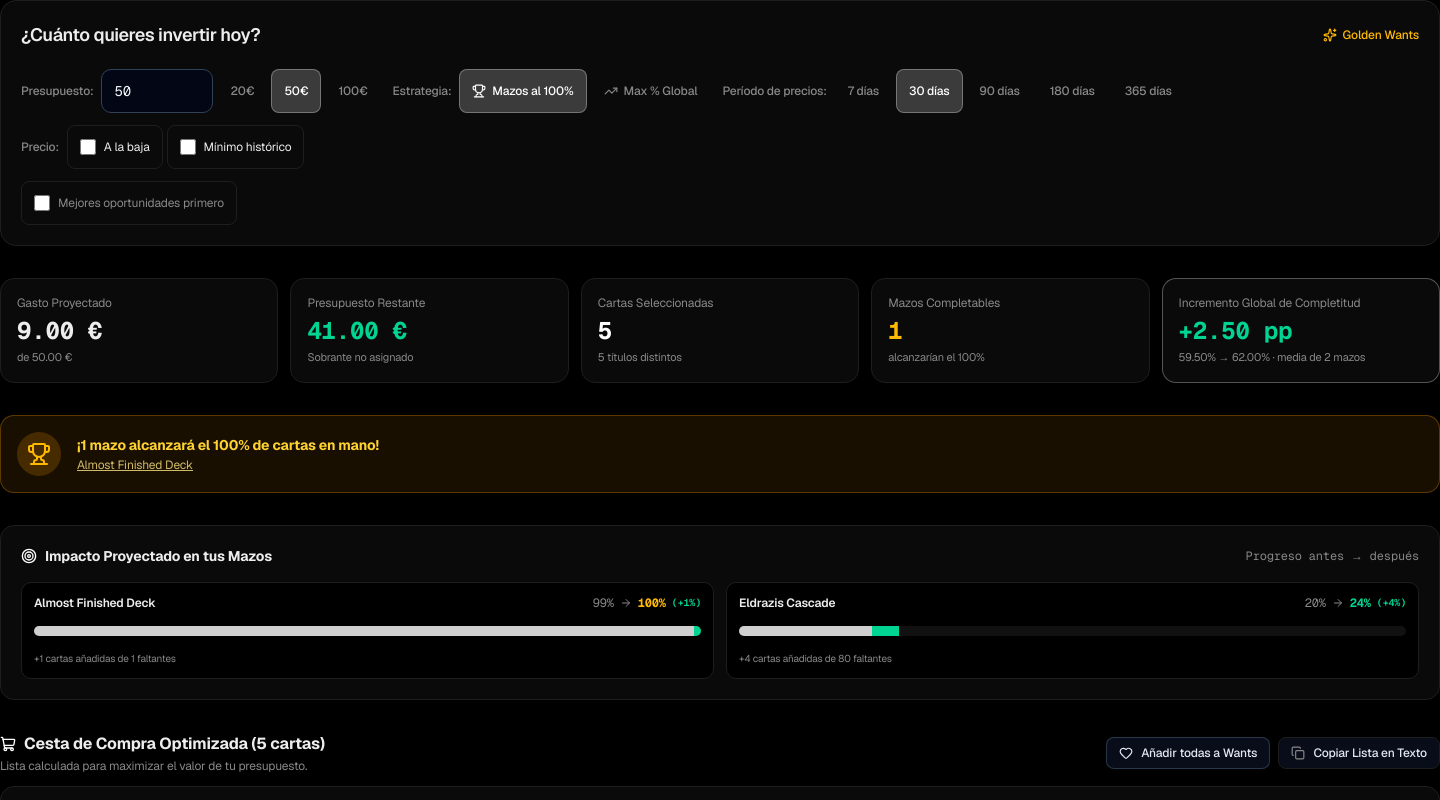
GoldenWantsTab Component › only shows improved decks with Max % Global
Click the button "Max % Global": {"x": 650, "y": 91} [590,69,710,113]
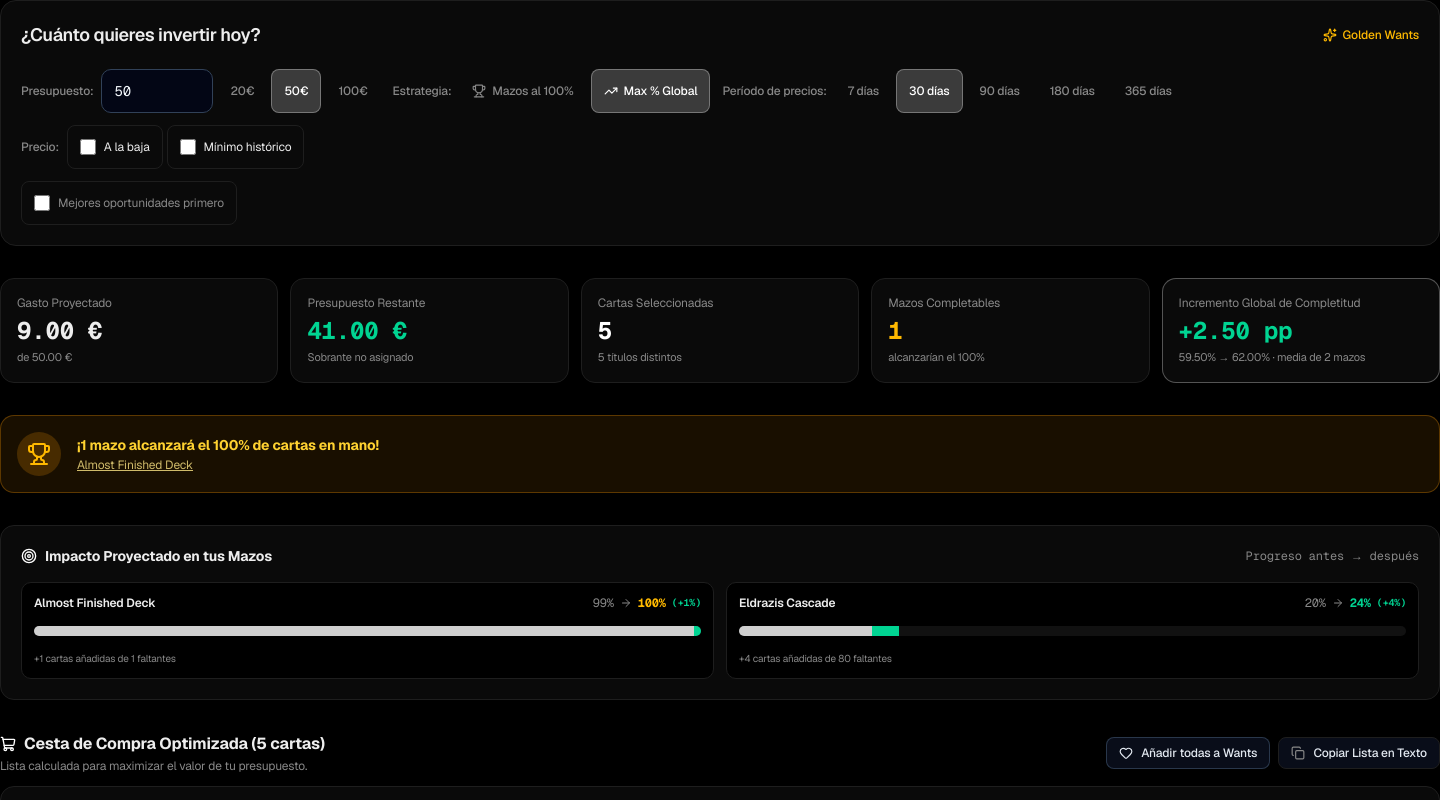
Replace the text in the number field with "1": {"x": 158, "y": 91} [102,69,214,113]
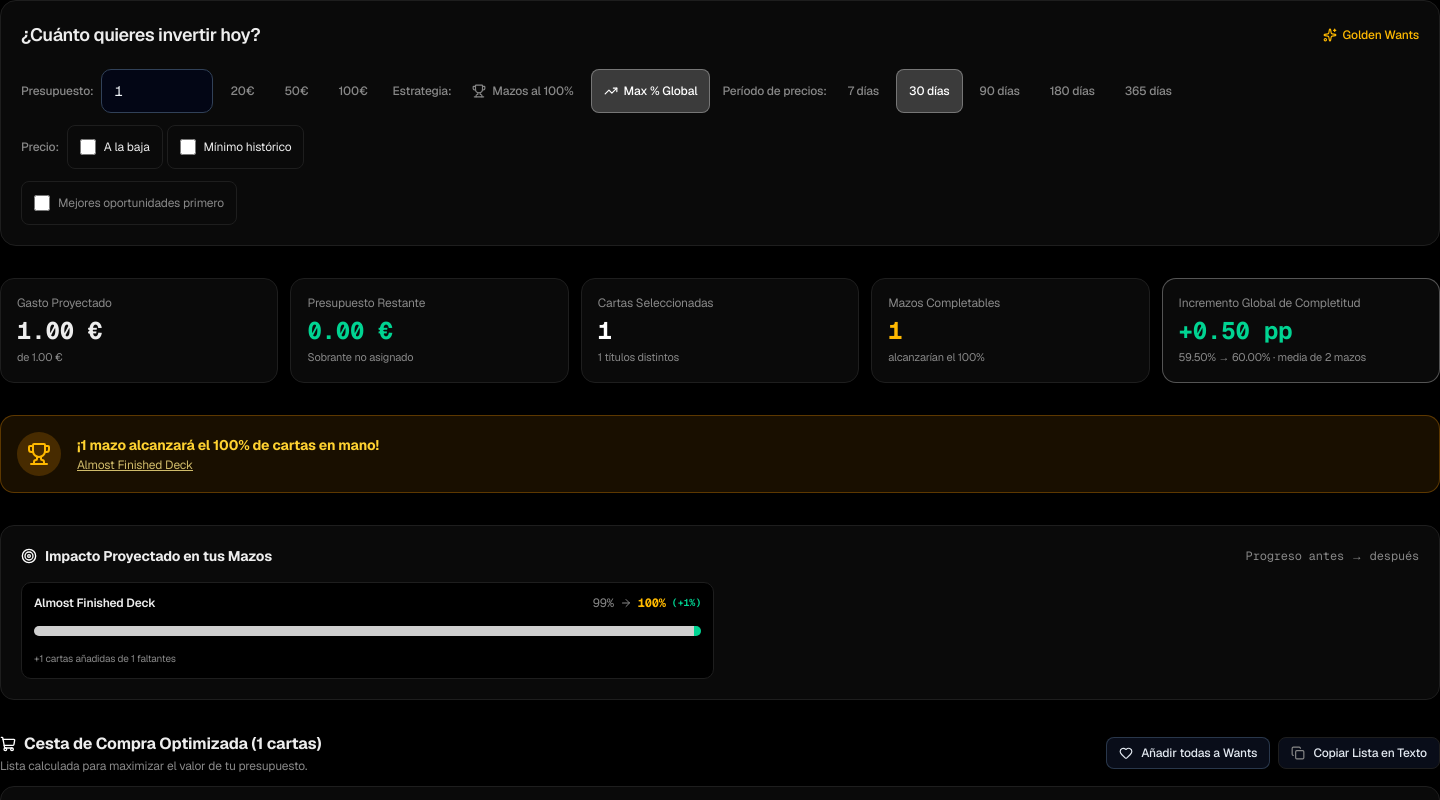
Expected: the button named "Cartas que mejoran Almost Finished Deck" is shown, [34,618,701,642]
Expected: the link "Eldrazis Cascade" is gone
Replace the text in the number field with "0.5": {"x": 158, "y": 91} [102,69,214,113]
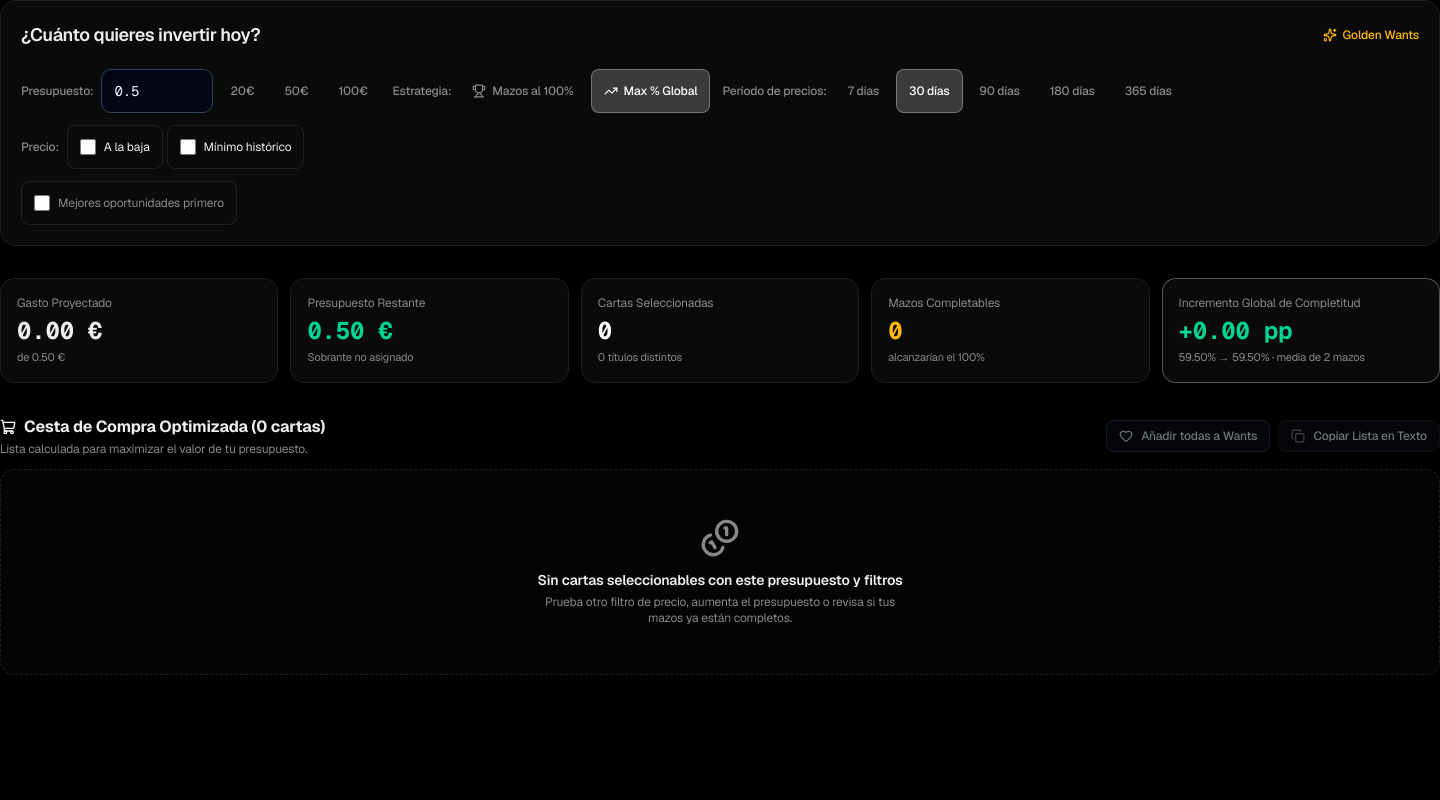
Expected: the text "Impacto Proyectado en tus Mazos" is gone
